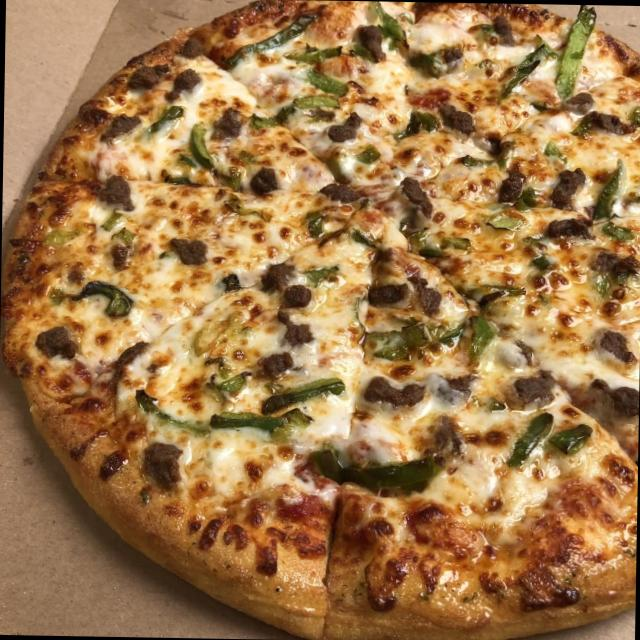peppers: (304, 444, 444, 502), (226, 7, 314, 76), (245, 86, 335, 138), (372, 314, 457, 365), (204, 401, 308, 442), (552, 8, 596, 98), (510, 411, 586, 463), (586, 154, 630, 243), (178, 125, 242, 186), (264, 372, 344, 414), (501, 36, 550, 101), (66, 280, 134, 316), (464, 315, 498, 369), (476, 204, 529, 232), (370, 8, 412, 41), (299, 258, 338, 292), (302, 67, 344, 94), (299, 205, 330, 235)
pizza: (0, 0, 640, 640)
